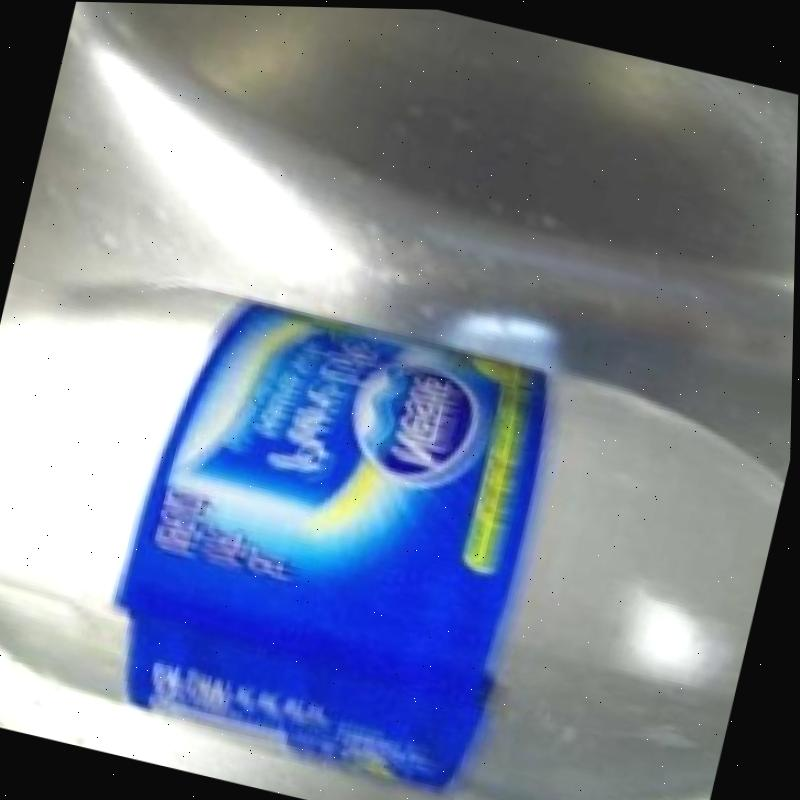botella: (0, 238, 796, 800)
